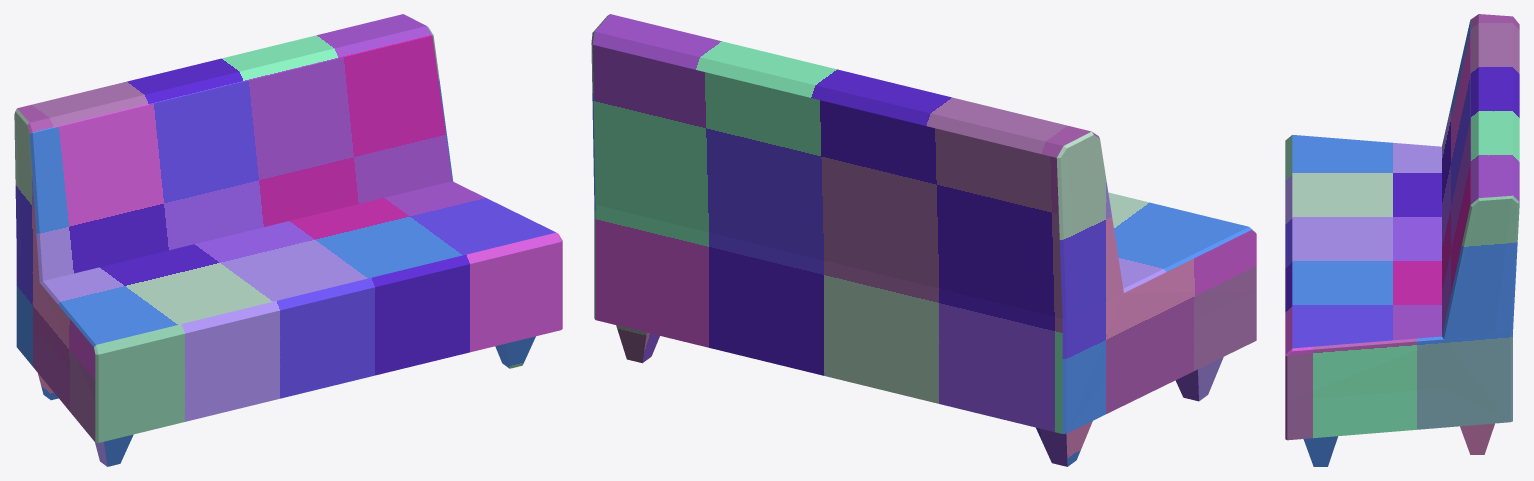
The model's file is rmk_mnc_chairL_mtl.dae.
The picture shows the model from 3 angles, left to right: view 1: azimuth 30°, elevation 25°; view 2: azimuth 150°, elevation 25°; view 3: azimuth 270°, elevation 25°; orthographic projection. The views are drawn at different scales.
Visible parts, largest first — view 1: rmk_mnc_chairL_mtl; view 2: rmk_mnc_chairL_mtl; view 3: rmk_mnc_chairL_mtl.
Part boxes in pixels (x1,y1,x2,y2): rmk_mnc_chairL_mtl: [14, 14, 562, 466]; rmk_mnc_chairL_mtl: [591, 14, 1256, 466]; rmk_mnc_chairL_mtl: [1285, 14, 1519, 466].
Size of the model in its own units: 57.6 by 32.8 by 26.36.
Materials: 1 (1 with a texture image).
